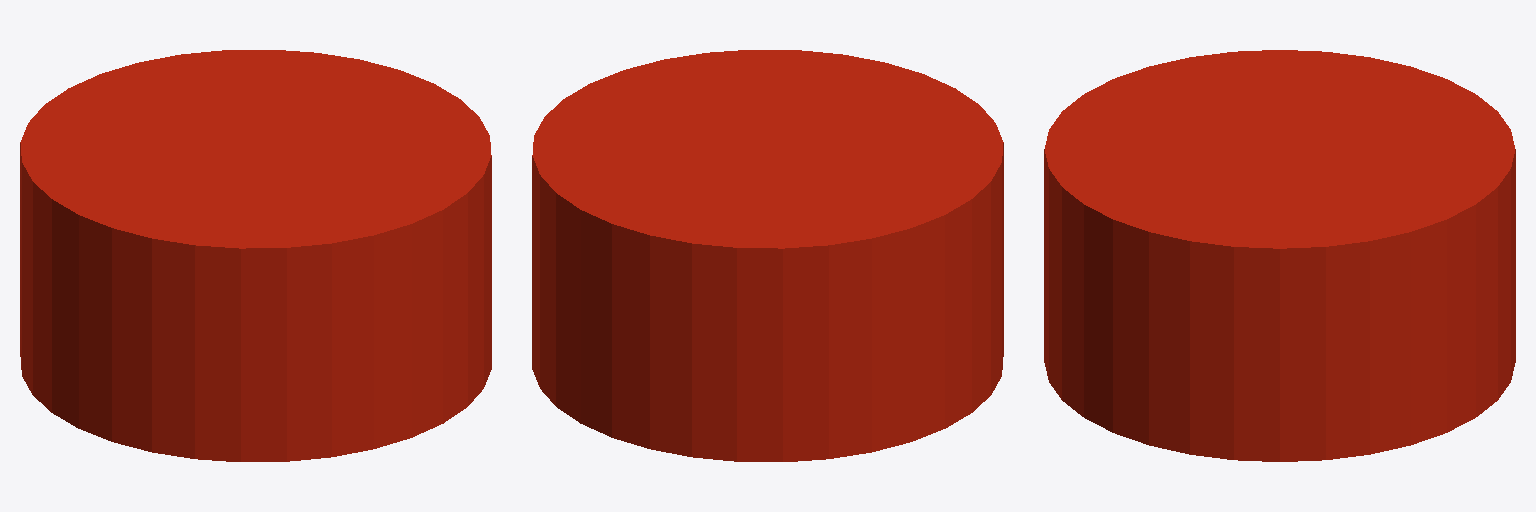
URDF robot description (Puck):
<robot
  name="Puck" version="1.0">

  <!-- Robot  -->

  <!-- Base link -->
  <link
    name="Puck">
    <inertial>
      <origin
        xyz="0.0 0.0 0.025"
        rpy="0 0 0" />
      <mass value="2.0" />
      <inertia ixx = "0" ixy = "0" ixz = "0"
               iyx = "0" iyy = "0" iyz = "0"
               izx = "0" izy = "0" izz = "0" />
    </inertial>
    <visual>
      <origin rpy="0 0 0" xyz="0 0 0"/>
      <geometry>
         <cylinder radius="0.05" length="0.05"/>
      </geometry>
      <material name="blockmat1">
        <color rgba="0.8 0.2 0.1 1"/>
      </material>
    </visual>
    <contact>
      <lateral_friction value="0.02"/>
      <rolling_friction value="0.0"/>
    </contact>
    <collision>
      <origin xyz="0 0 0" rpy="0 0 0"/>
     <geometry>
        <cylinder radius="0.05" length="0.05"/>
     </geometry>
    </collision>
  </link>

</robot>

--- Render facts (derived) ---
The picture shows the robot from 3 angles, left to right: view 1: azimuth 30°, elevation 25°; view 2: azimuth 150°, elevation 25°; view 3: azimuth 270°, elevation 25°; orthographic projection.
Robot: Puck — 1 links, 0 joints (none); root link Puck; default pose: all joints at 0.
Links seen in each view (by area): view 1: Puck; view 2: Puck; view 3: Puck.
Boxes of the visible links, left/top/right/bottom form: Puck: left=20, top=50, right=491, bottom=461; Puck: left=532, top=50, right=1003, bottom=461; Puck: left=1044, top=50, right=1515, bottom=461.
Bounding box of the posed robot: 0.1 × 0.1 × 0.05 m (x, y, z).
Geometry: primitives only (box / cylinder / sphere), no mesh files.